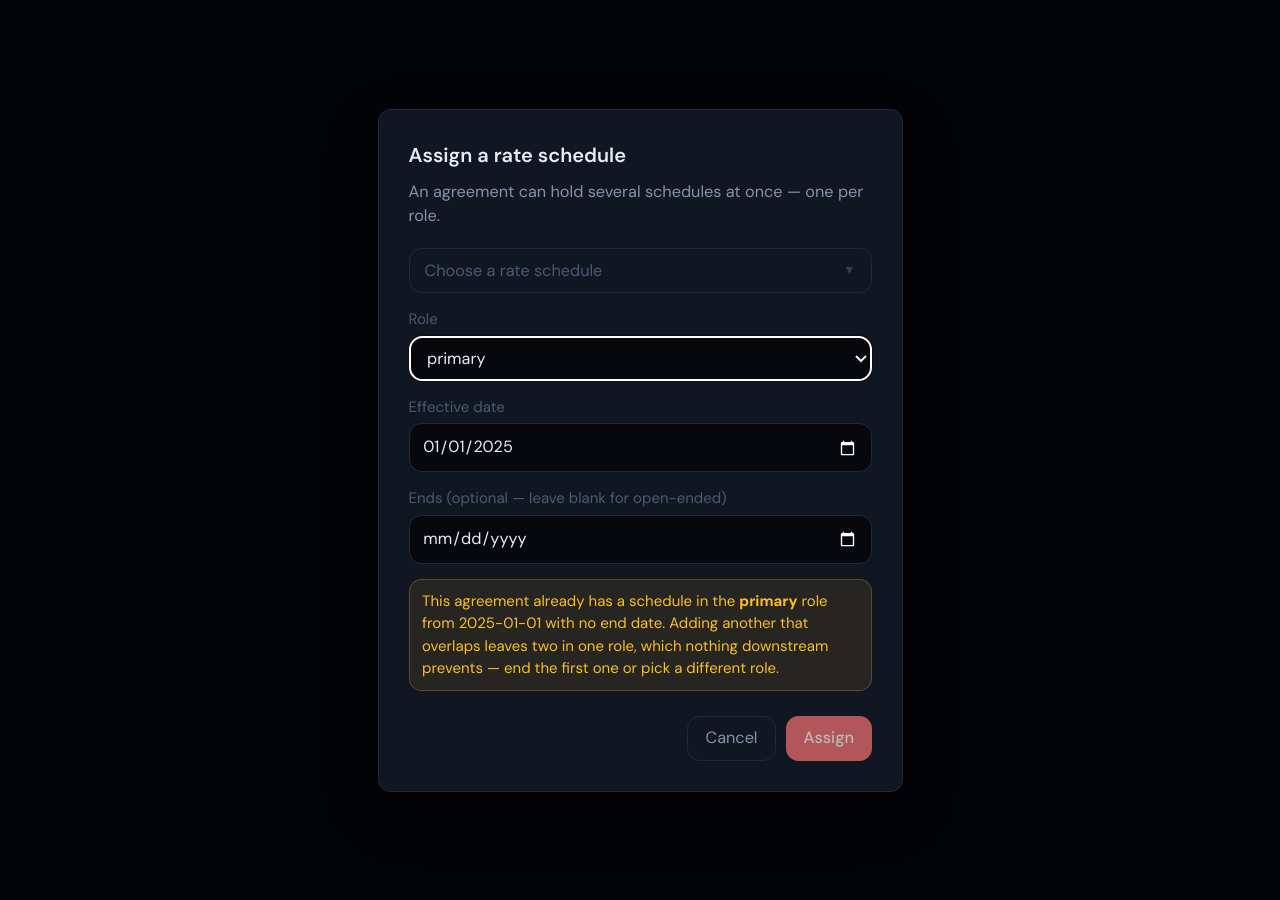
Assign rate schedule › says which schedules this agreement already has
Step 1. Click the dropdown labelled "Choose a rate schedule ▼" → (513, 270), box [408,248,872,293]
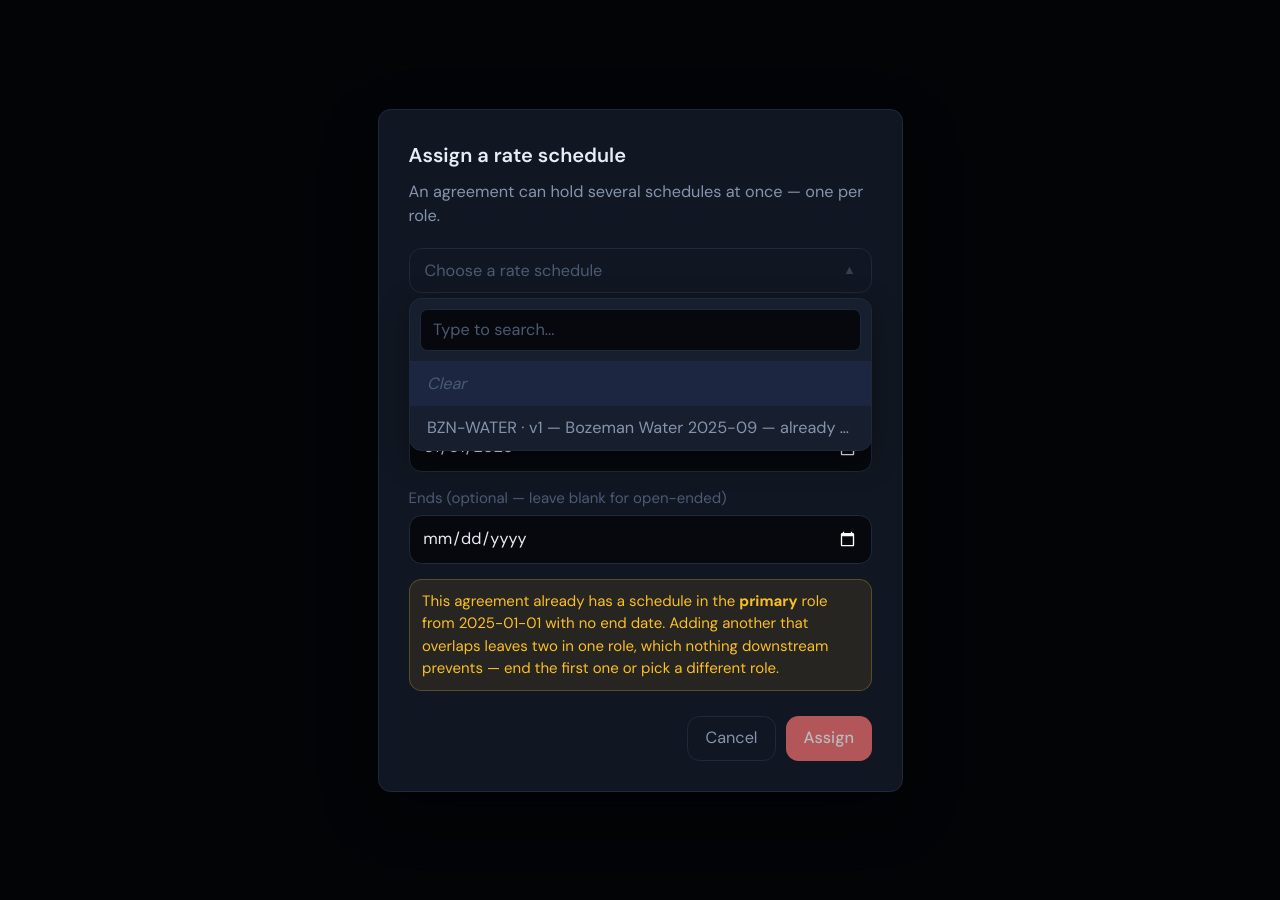
Check: the option "BZN-WATER · v1 — Bozeman Water 2025-09 — already assigned" is shown, box [427,417,870,438]
